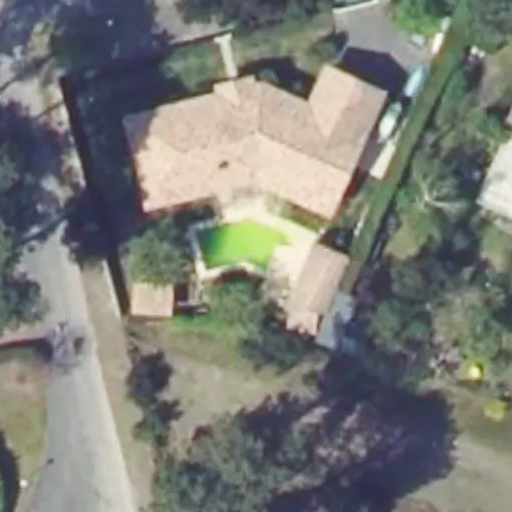pool: (199, 226, 318, 260)
